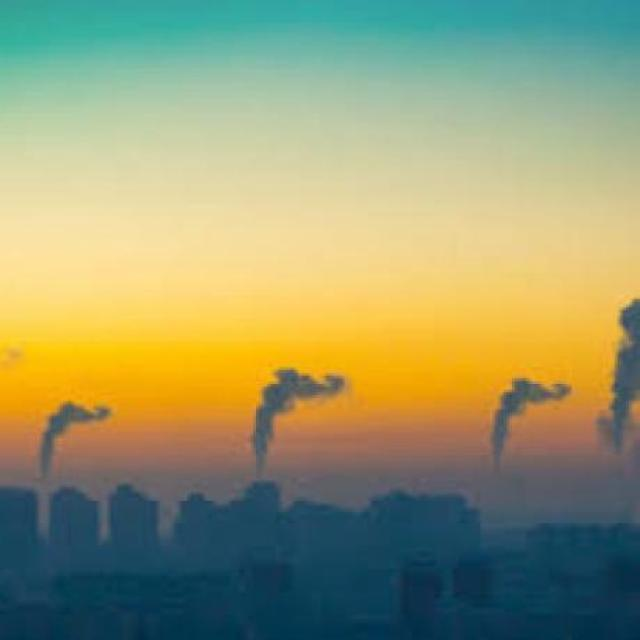Smoke: (236, 338, 348, 476), (486, 371, 570, 476), (27, 393, 106, 491), (597, 290, 640, 454)
